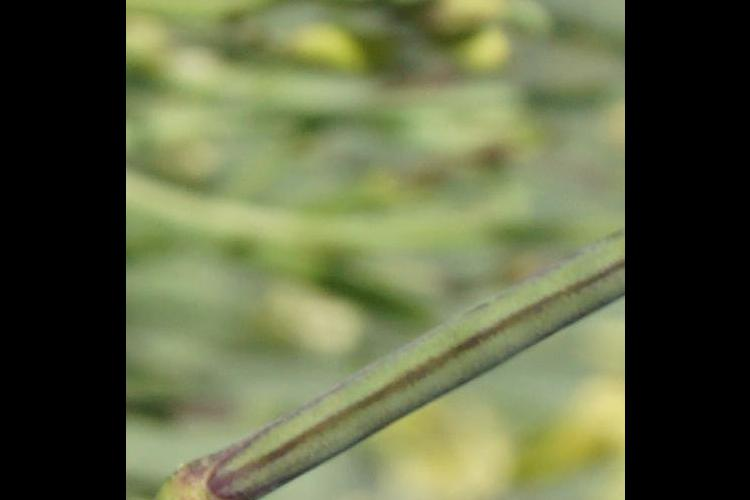pod: (200, 236, 616, 500)
